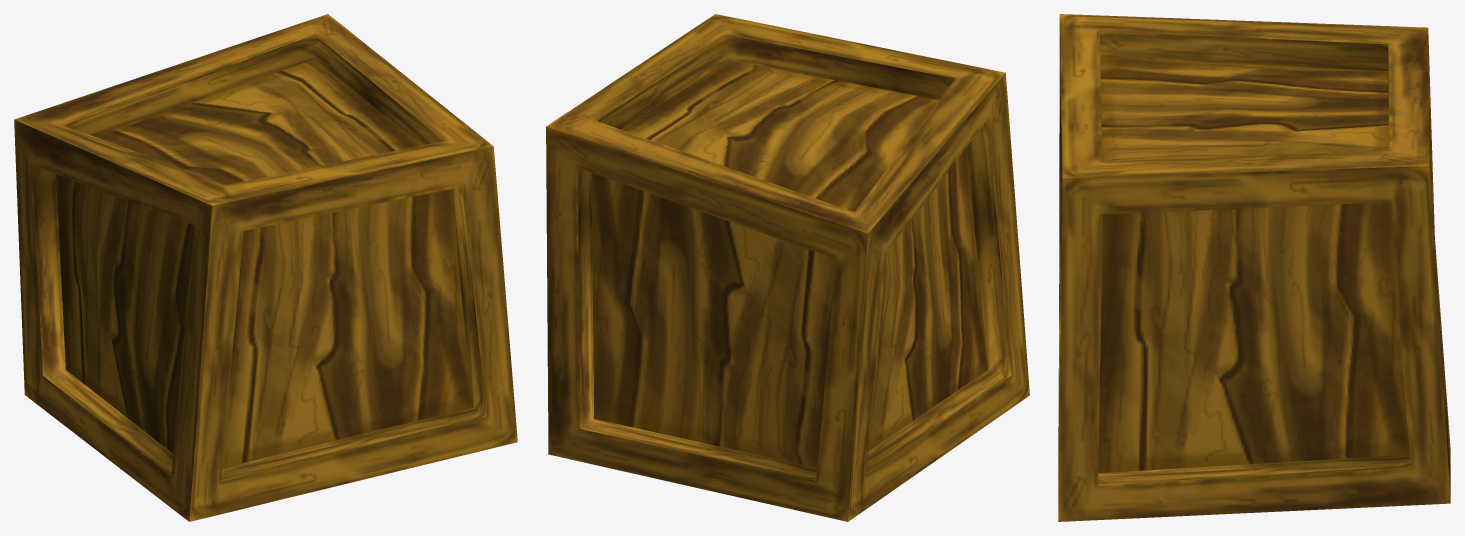
The model's file is V_Caja_Claro1_2.fbx.
3 renders of one model, left to right at view 1: azimuth 30°, elevation 25°; view 2: azimuth 150°, elevation 25°; view 3: azimuth 270°, elevation 25°, orthographic. The views are drawn at different scales.
Visible parts, largest first — view 1: V_Caja_Claro1_2; view 2: V_Caja_Claro1_2; view 3: V_Caja_Claro1_2.
Boxes of the visible parts, x1=… form: V_Caja_Claro1_2: x1=14, y1=14, x2=517, y2=521; V_Caja_Claro1_2: x1=546, y1=14, x2=1029, y2=521; V_Caja_Claro1_2: x1=1058, y1=14, x2=1450, y2=521.
Bounding box in the file's own units: 70.8 × 62.48 × 64.6.
